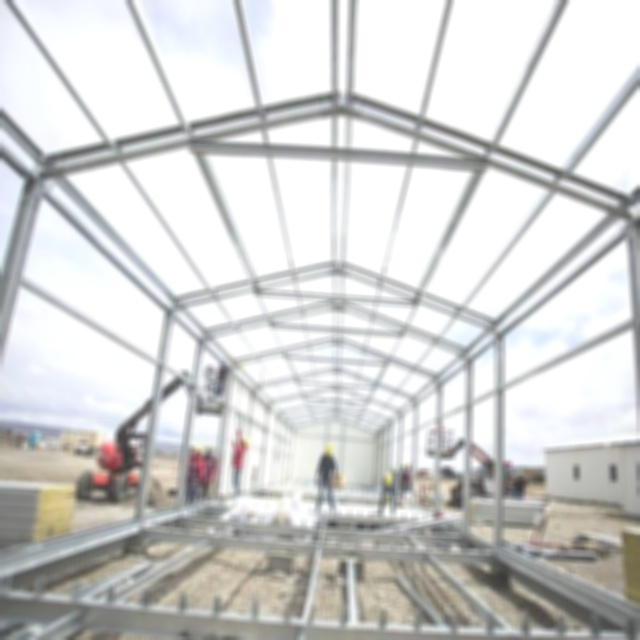Con_Casco: (325, 443, 334, 458), (384, 472, 393, 487)
